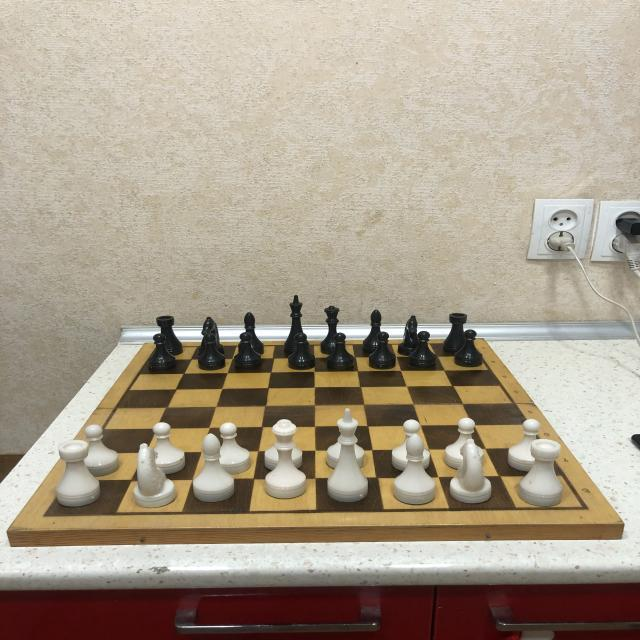chess-table-corners: (30, 504, 60, 528), (566, 497, 599, 518)
